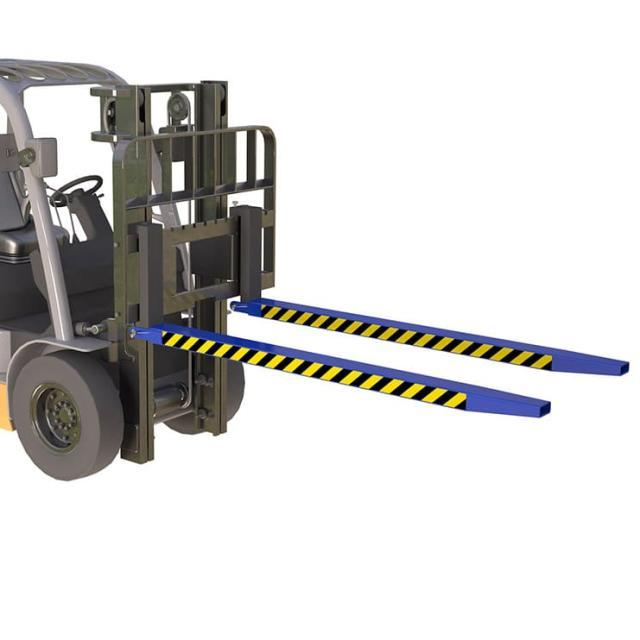forklift: (0, 52, 281, 485)
